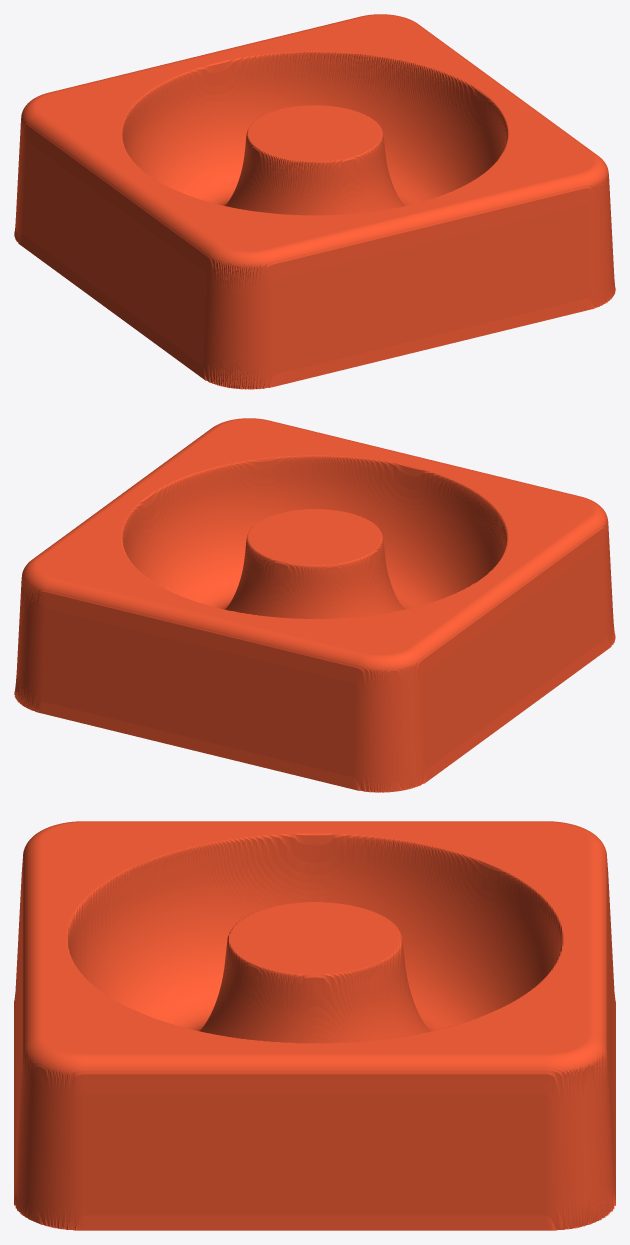
Rendered from mold.glb.
3 views of the same model, one above another, from view 1: azimuth 30°, elevation 25°; view 2: azimuth 150°, elevation 25°; view 3: azimuth 270°, elevation 25° (orthographic). The views are drawn at different scales.
Visible parts, largest first — view 1: geometry_0; view 2: geometry_0; view 3: geometry_0.
Boxes of the visible parts, x1,y1,x2,y2 form: geometry_0: [14, 14, 615, 389]; geometry_0: [14, 418, 615, 792]; geometry_0: [14, 821, 615, 1230].
Bounding box in the file's own units: 0.0778 × 0.0235 × 0.0778.
